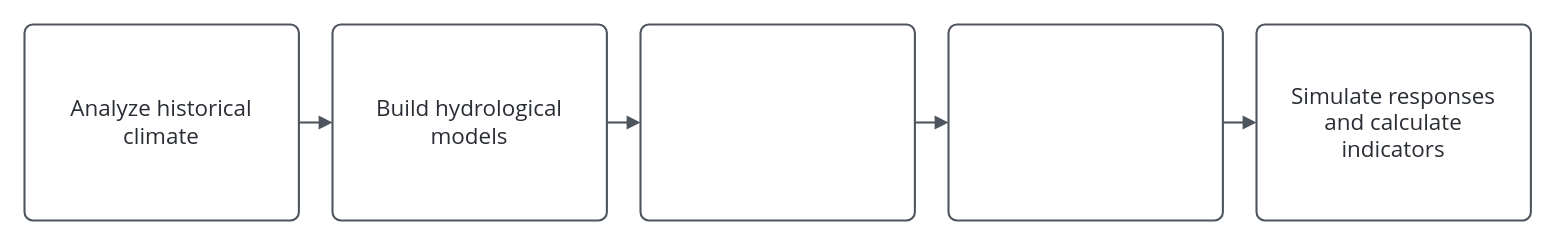
Image size: 1557x246. Some labels were removed from this diagram. Each missing label, with the centre of its shape:
Assess climate projections: the point at 777,122
Generate climate scenarios: the point at 1085,122
